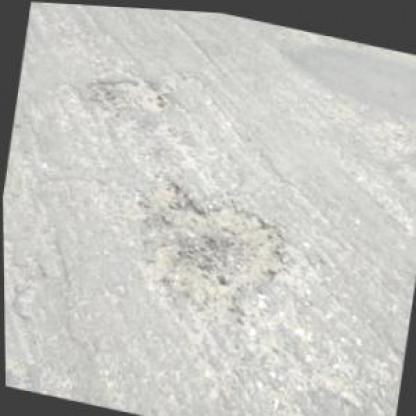pothole: (125, 171, 291, 327), (79, 61, 171, 121)
